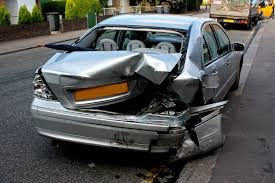Smashed: (91, 51, 204, 144)
